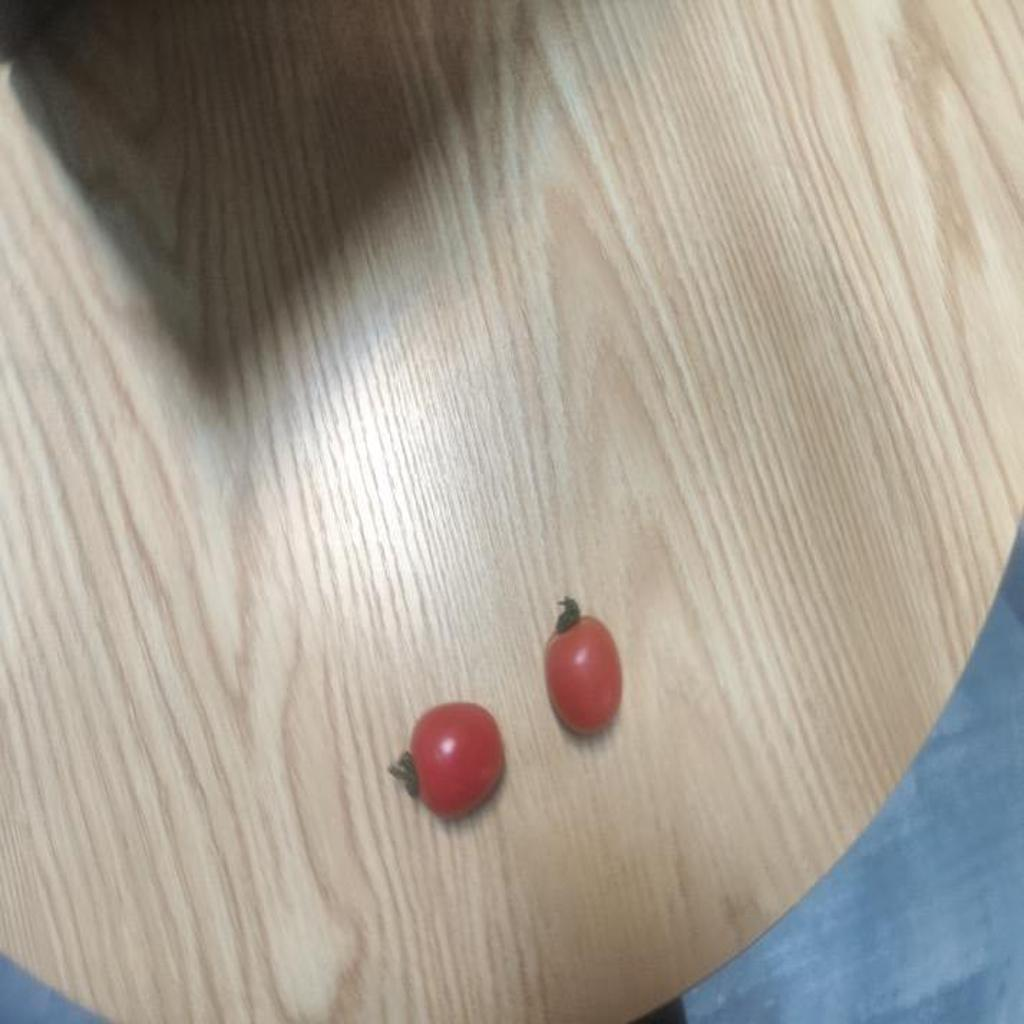tomato: (388, 705, 510, 823), (531, 611, 627, 740)
